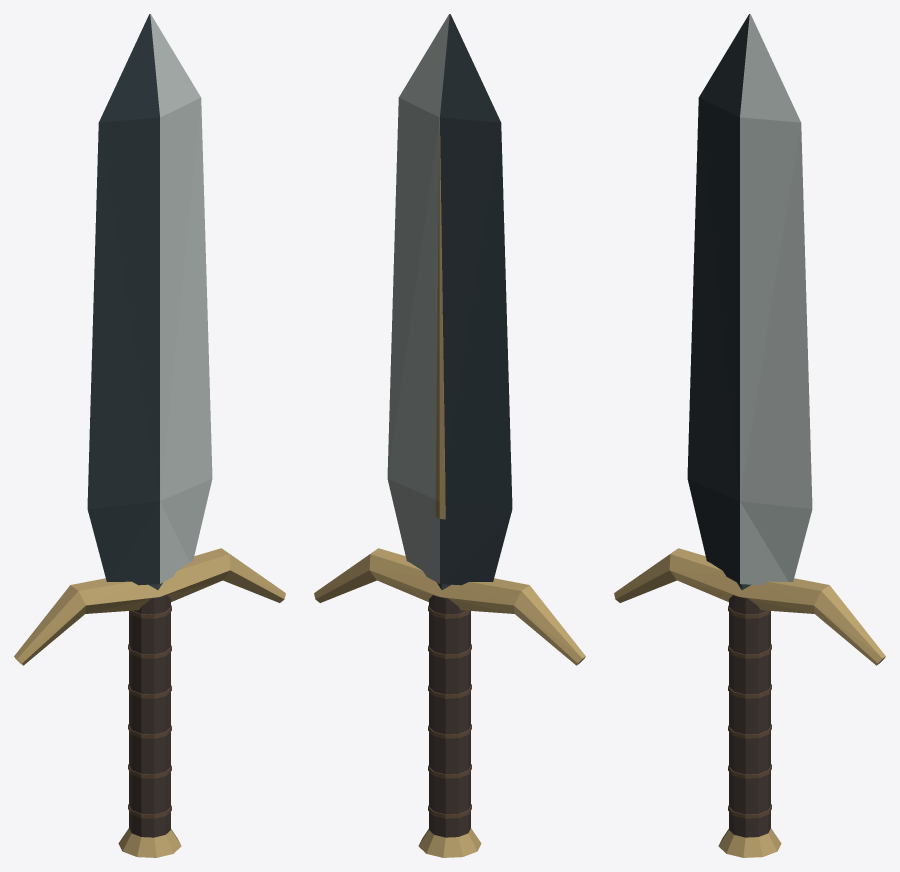
File: AEW_Greatsword_TideAnchor.fbx
The picture shows the model from 3 angles, left to right: view 1: azimuth 30°, elevation 25°; view 2: azimuth 150°, elevation 25°; view 3: azimuth 330°, elevation 25°; orthographic projection.
Parts seen in each view (by area): view 1: AEW_Greatsword_TideAnchor; view 2: AEW_Greatsword_TideAnchor; view 3: AEW_Greatsword_TideAnchor.
Part boxes in pixels (box(x1,y1,x2,y2)): AEW_Greatsword_TideAnchor: box(14, 14, 285, 857); AEW_Greatsword_TideAnchor: box(314, 14, 585, 857); AEW_Greatsword_TideAnchor: box(614, 14, 885, 857).
Size of the model in its own units: 0.6447 by 1.9 by 0.1255.
